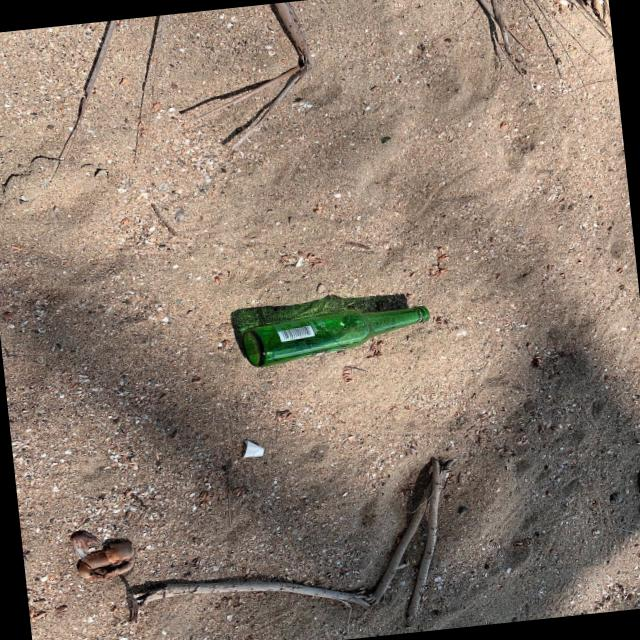less trash: (243, 306, 429, 366)
